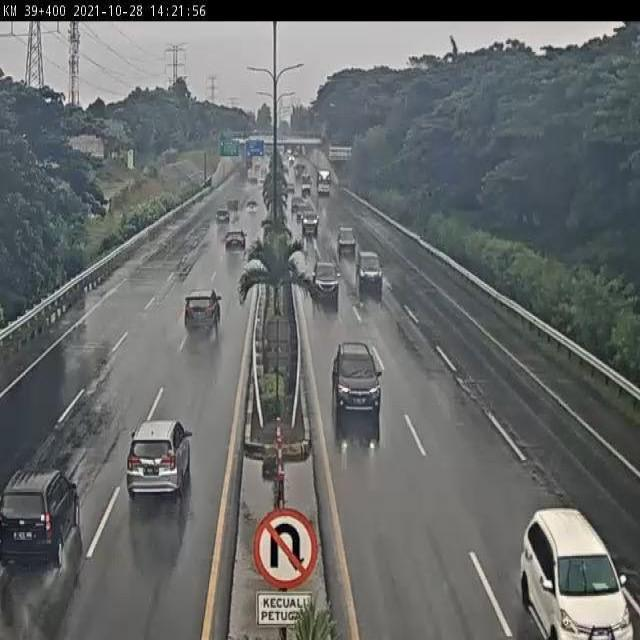car: (518, 502, 634, 640), (0, 457, 81, 571), (127, 420, 193, 501), (183, 287, 223, 337), (311, 257, 342, 296), (223, 224, 249, 256)
